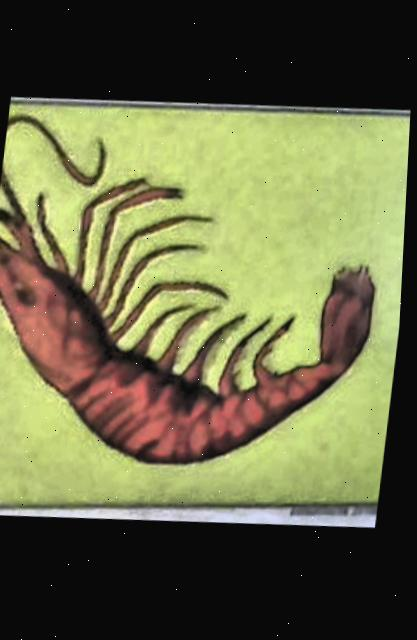El Camaron: (0, 105, 412, 507)
